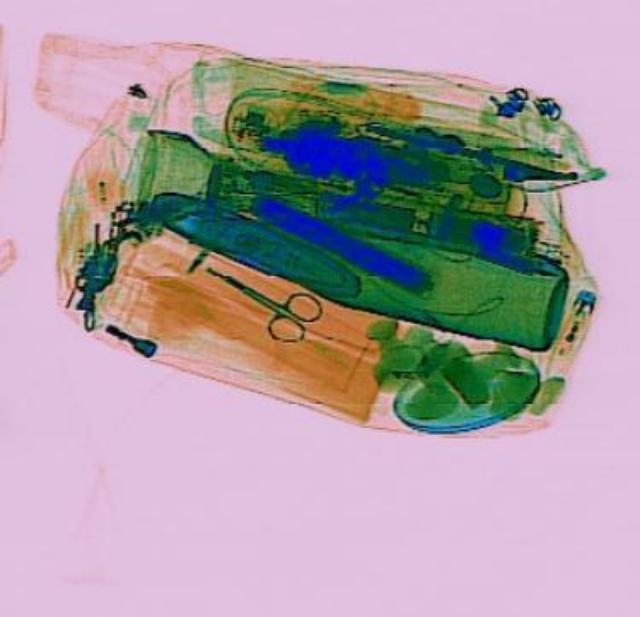Scissors: (187, 243, 326, 350)
